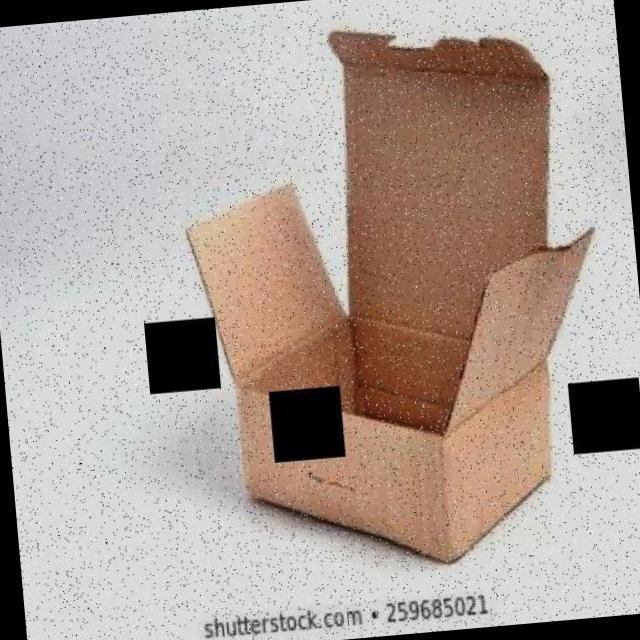box: (168, 0, 631, 593)
